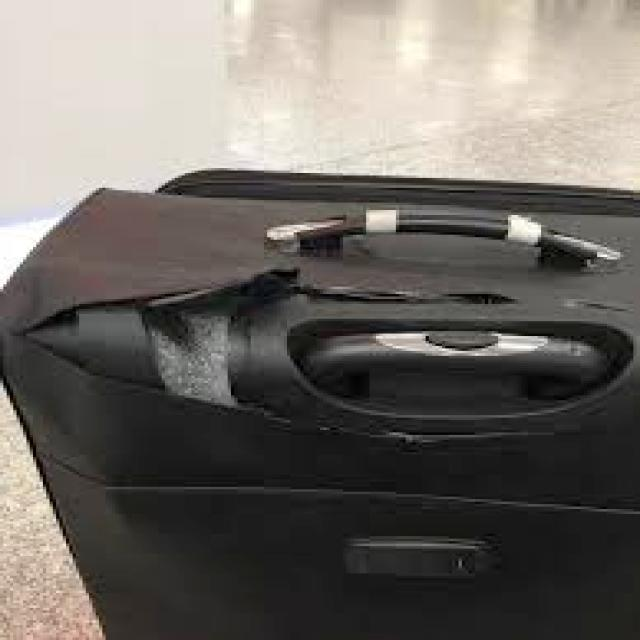Damage-bag: (12, 269, 514, 448)
